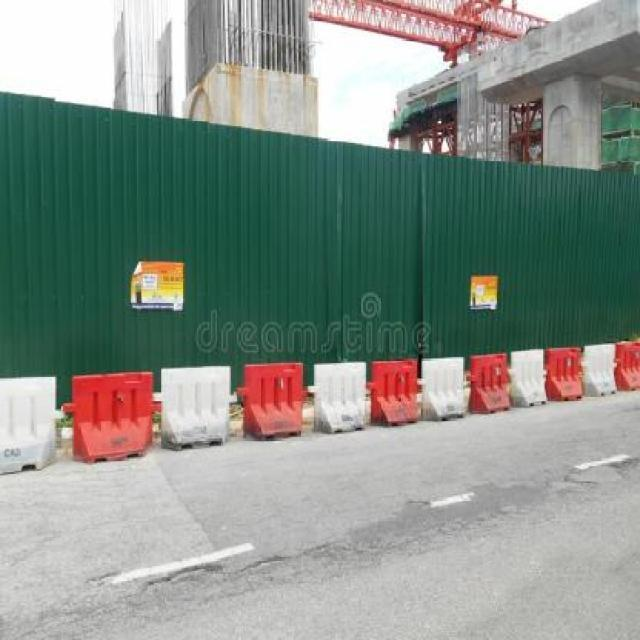fallen_object: (60, 352, 162, 476), (509, 334, 640, 415), (226, 342, 318, 448), (397, 346, 518, 418), (146, 370, 240, 452), (0, 364, 60, 476), (305, 360, 372, 434), (376, 359, 424, 437)
